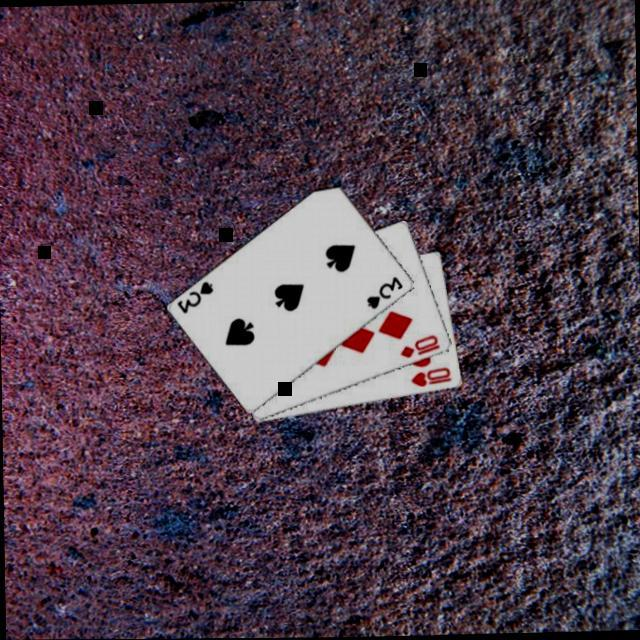10D: (396, 330, 442, 359)
10H: (407, 362, 453, 387)
3S: (362, 271, 405, 310), (173, 275, 216, 314)
